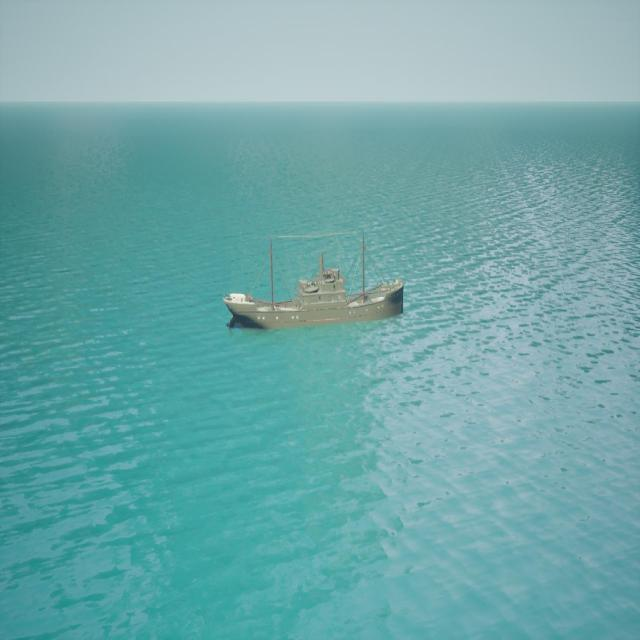fishing ship: (225, 235, 406, 337)
